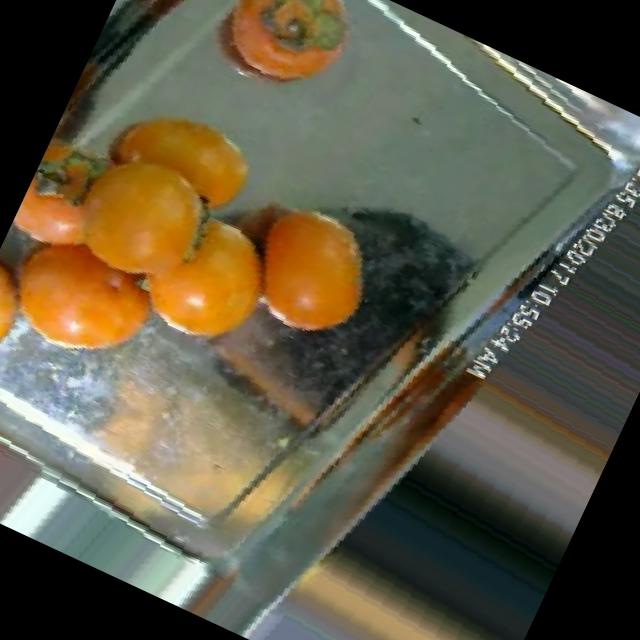Fruit: (176, 148, 418, 374), (62, 56, 294, 258), (182, 0, 386, 127), (0, 246, 56, 396)
